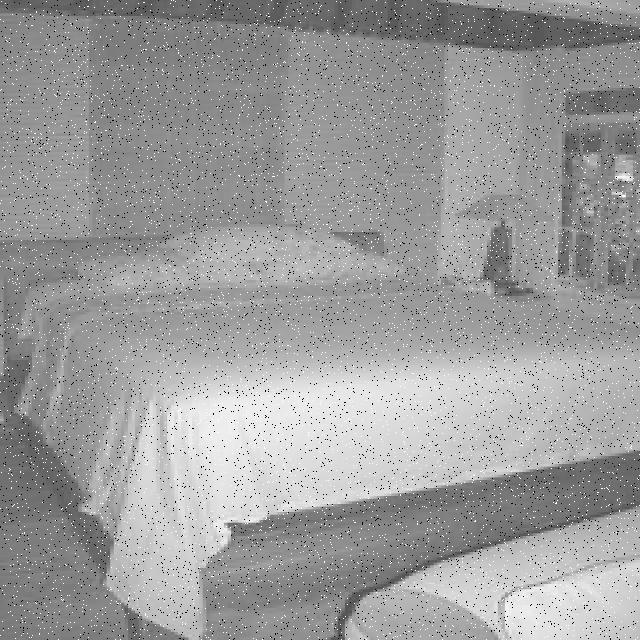bed: (18, 219, 640, 530)
